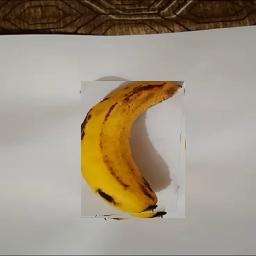Banana Semifresh: (82, 82, 186, 219)
